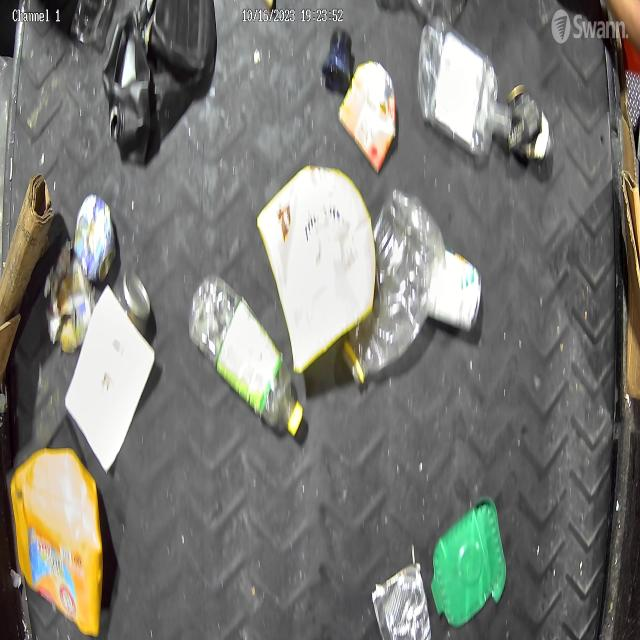can: (337, 58, 398, 176), (370, 561, 433, 640), (431, 246, 483, 334), (72, 191, 118, 285), (115, 270, 151, 333)
non_white_jug: (101, 0, 218, 168), (9, 444, 106, 635)
plastic_bottle: (341, 186, 448, 390), (186, 270, 304, 438), (418, 18, 512, 158)
